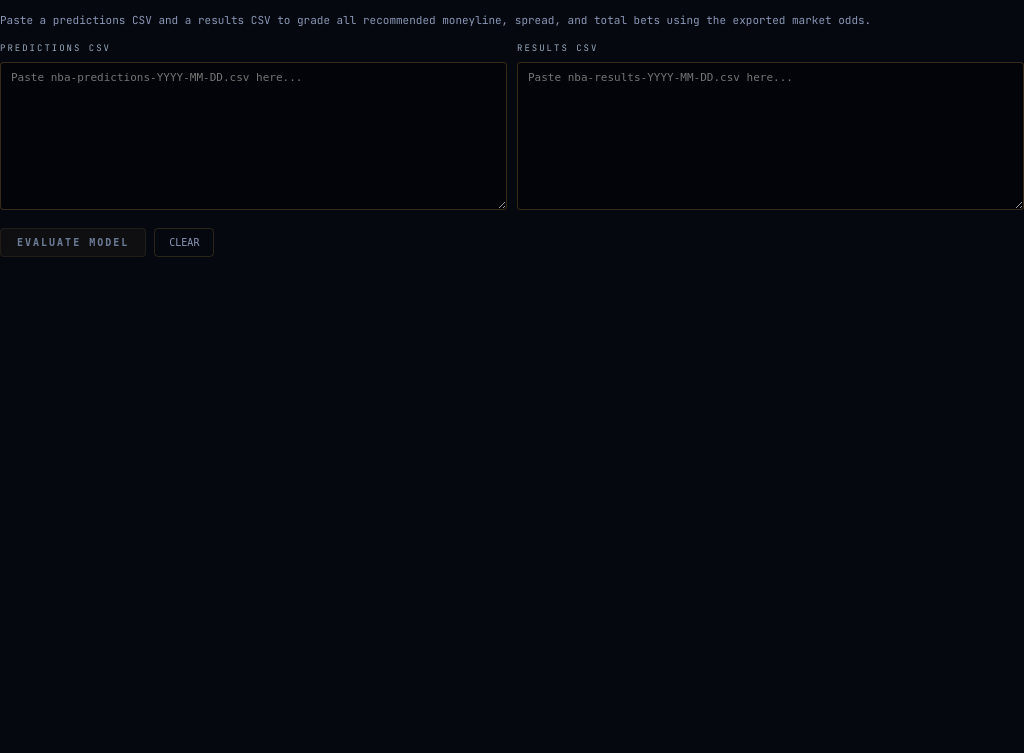
it: ModelEvaluation › grades recommended bets from pasted CSV input
The image size is (1024, 753).
expect the text box with placeholder "Paste nba-results-YYYY-MM-DD.csv here..." is shown: met, box [517,62,1023,210]
Type "\"Date\",\"Home\",\"Away\",\"ML Rec\",\"Vegas H ML\",\"Vegas A ML\",\"Vegas Spread\",\"Spread Home Odds\",\"Spread Away Odds\",\"Vegas O/U\",\"Over Odds\",\"Under Odds\",\"Spread Rec\",\"O/U Rec\",\"LookupKey\" \"2026-03-20\",\"BOS C" into the text box with placeholder "Paste nba-predictions-YYYY-MM-DD.csv here..." at [254, 136], box [0,62,507,210]
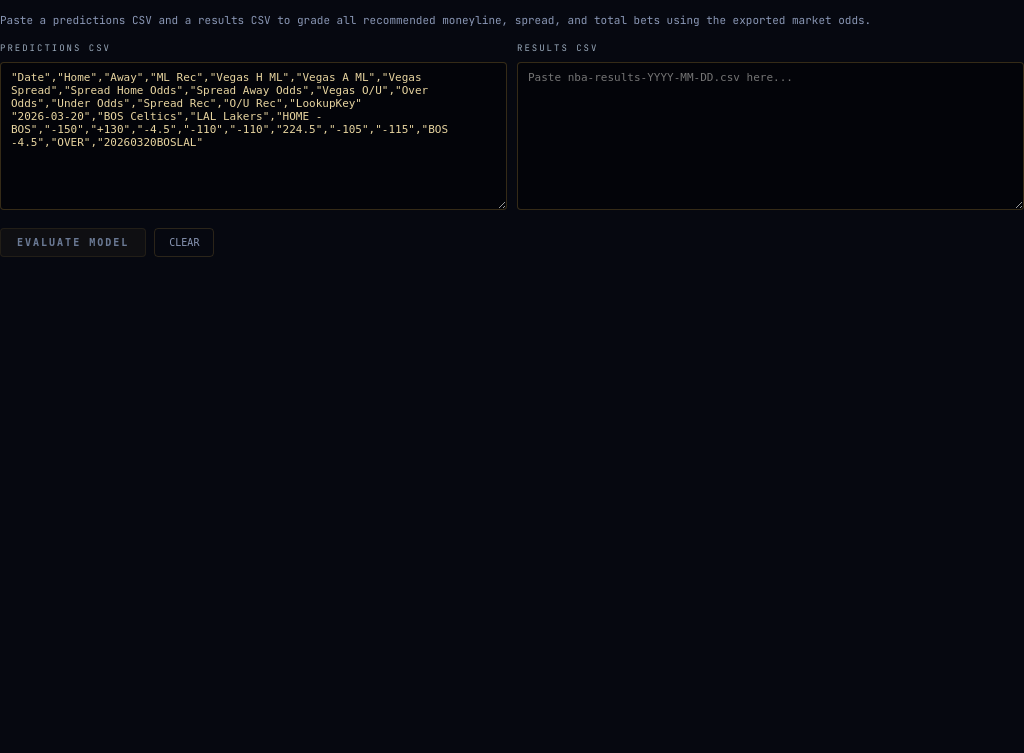
Type "\"Date\",\"Home\",\"Away\",\"Home Score\",\"Away Score\",\"LookupKey\" \"2026-03-20\",\"BOS\",\"LAL\",\"118\",\"110\",\"20260320BOSLAL\"" into the text box with placeholder "Paste nba-results-YYYY-MM-DD.csv here..." at [770, 136], box [517,62,1023,210]
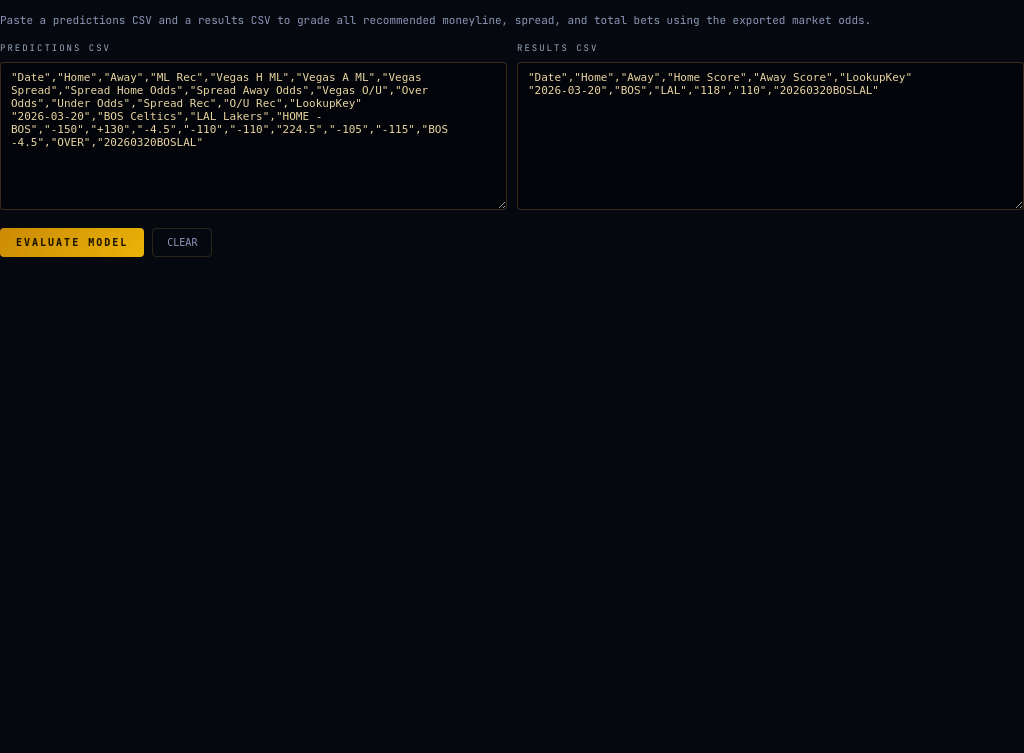
Click the button "EVALUATE MODEL" at [72, 242], box [0,228,144,257]
(page scrolled)
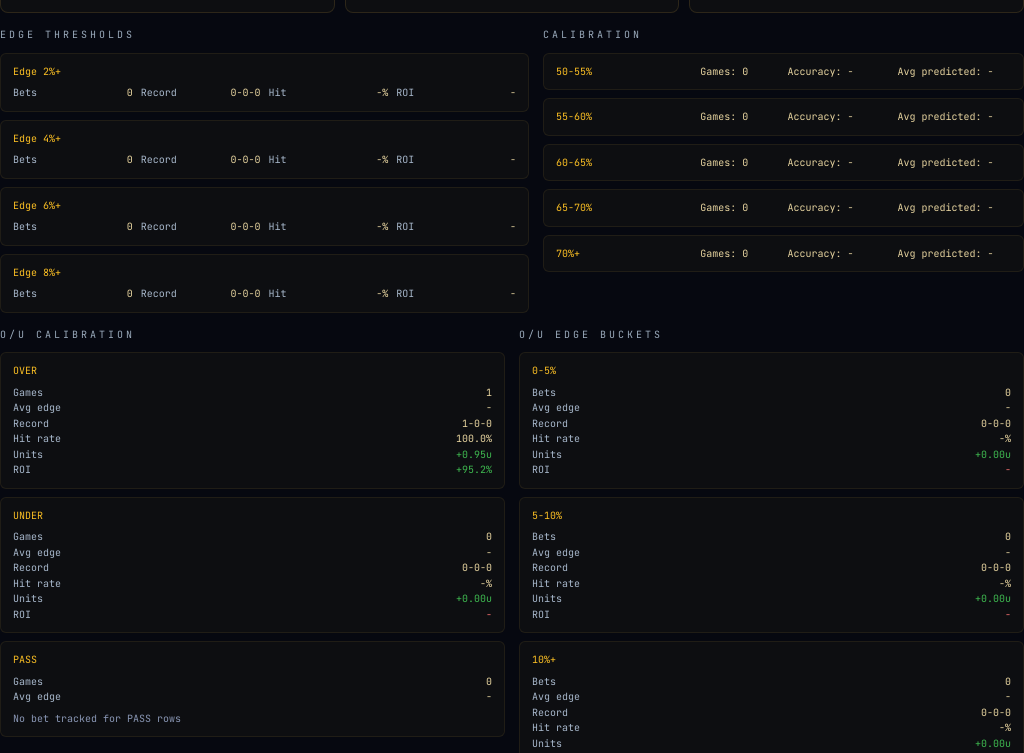
expect the text "EDGE THRESHOLDS" is shown: met, box [0,28,135,41]
expect the text "CALIBRATION" is shown: met, box [543,28,642,41]
expect the text "O/U CALIBRATION" is shown: met, box [0,328,135,341]
